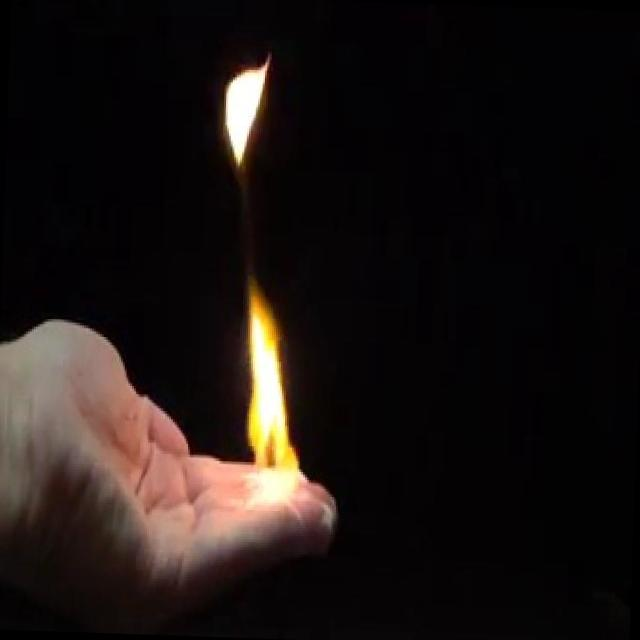Smoke: (230, 274, 306, 511)
